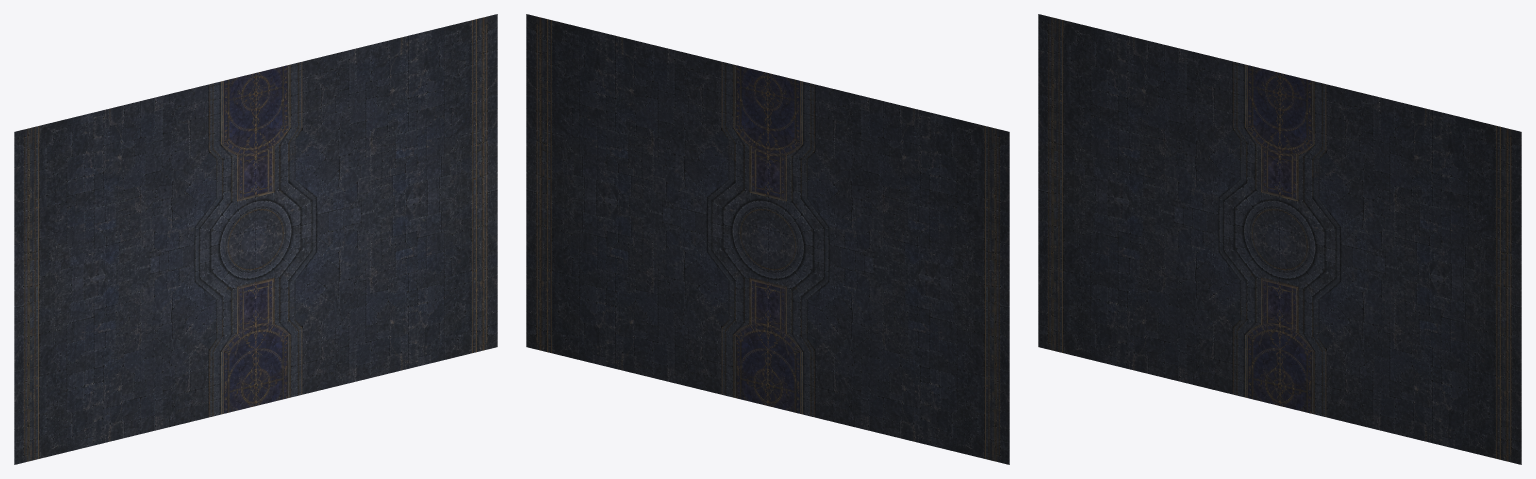
File: terrain-abyss-chancel-raw-image-plane.glb
3 views of the same model, side by side, from view 1: azimuth 30°, elevation 25°; view 2: azimuth 150°, elevation 25°; view 3: azimuth 330°, elevation 25° (orthographic).
Parts seen in each view (by area): view 1: TerrainAbyssChancelRawImagePlane; view 2: TerrainAbyssChancelRawImagePlane; view 3: TerrainAbyssChancelRawImagePlane.
Part boxes in pixels (box(x1,y1,x2,y2)): TerrainAbyssChancelRawImagePlane: box(14, 14, 497, 464); TerrainAbyssChancelRawImagePlane: box(526, 14, 1009, 464); TerrainAbyssChancelRawImagePlane: box(1038, 14, 1521, 464).
Bounding box in the file's own units: 1.88 × 1.24 × 0.
1 material, 1 textured.
